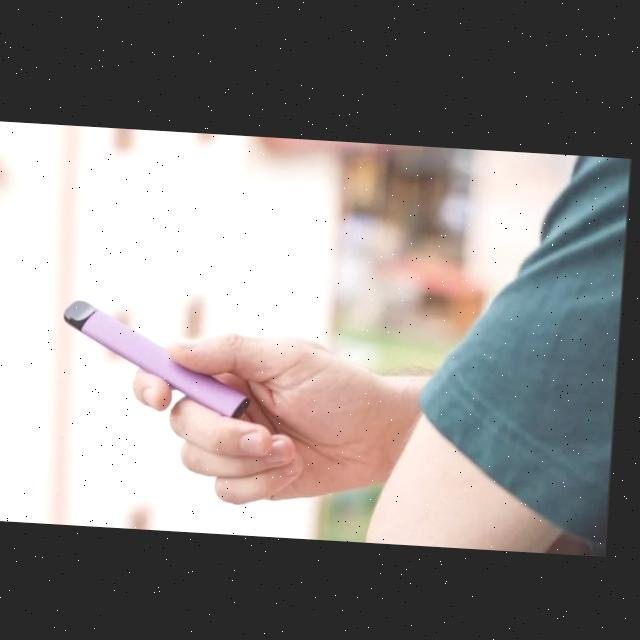vape: (63, 297, 262, 417)
